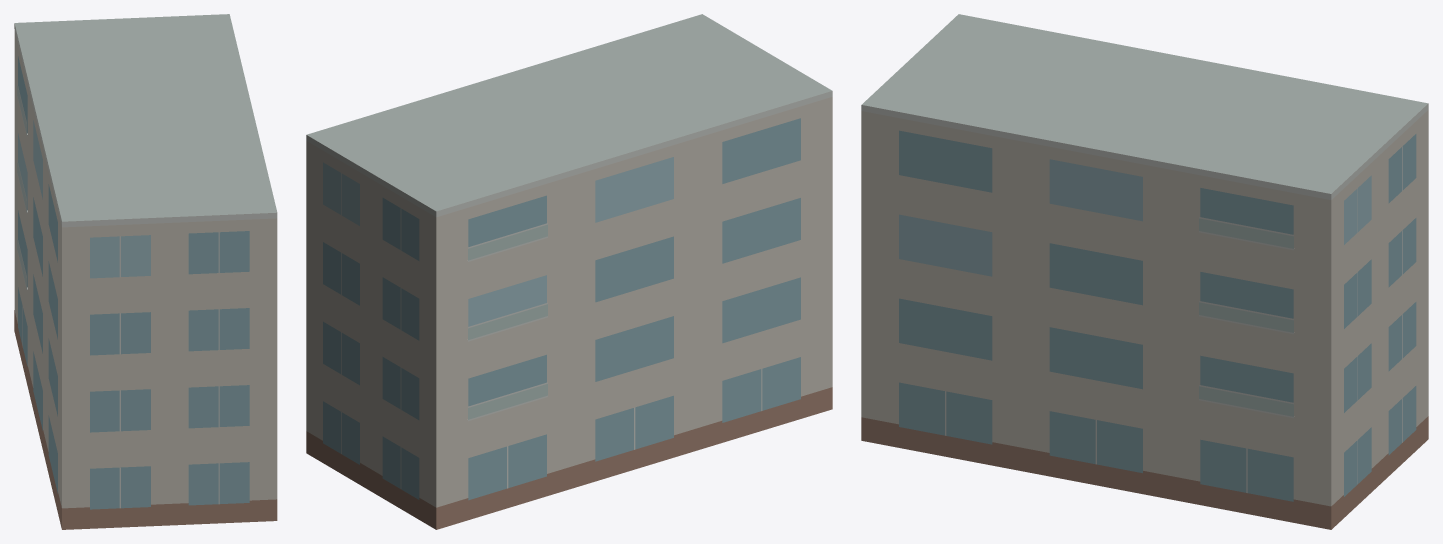
The model's file is survey-upis-32812387.glb.
The picture shows the model from 3 angles, left to right: view 1: azimuth 30°, elevation 25°; view 2: azimuth 150°, elevation 25°; view 3: azimuth 270°, elevation 25°; orthographic projection. The views are drawn at different scales.
Parts seen in each view (by area): view 1: survey-upis-32812387.tmp; view 2: survey-upis-32812387.tmp; view 3: survey-upis-32812387.tmp.
Part boxes in pixels (x1,y1,x2,y2): survey-upis-32812387.tmp: [14, 14, 277, 529]; survey-upis-32812387.tmp: [306, 14, 832, 529]; survey-upis-32812387.tmp: [861, 14, 1428, 529].
Bounding box in the file's own units: 15.18 × 13.2 × 20.21.
